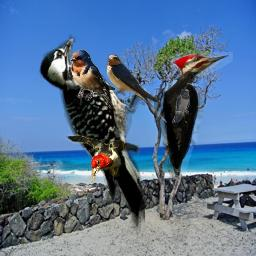Swallow: (106, 54, 167, 123), (67, 49, 115, 110), (172, 89, 190, 123)
Woodpecker: (38, 34, 145, 231), (154, 52, 233, 177), (63, 131, 140, 183)
